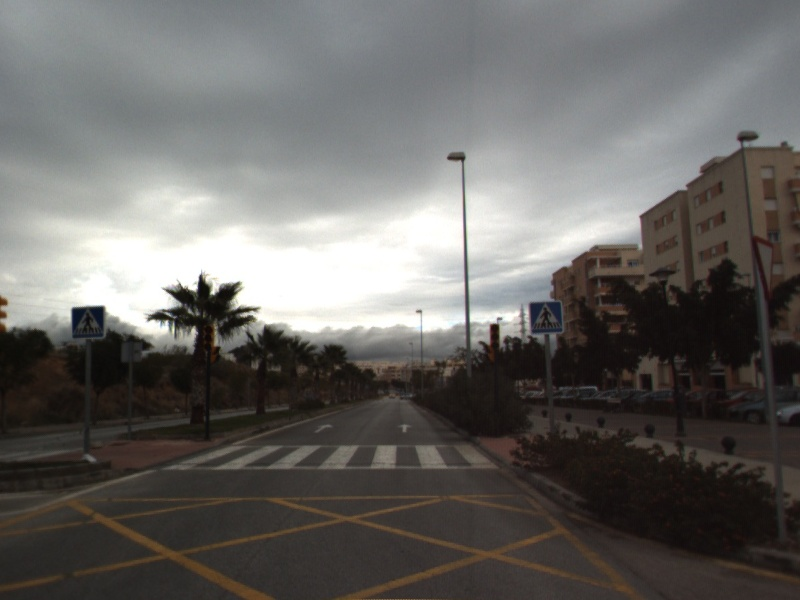STRAIGHT: (312, 422, 336, 435), (396, 422, 414, 434)
